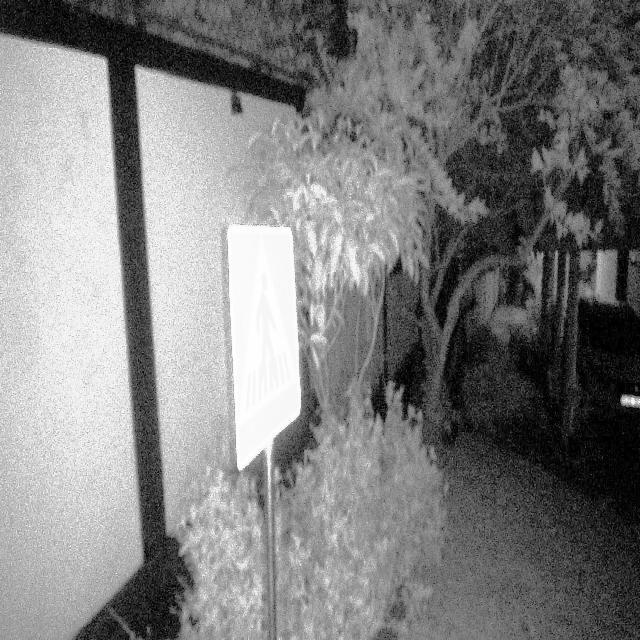Sign: (225, 223, 303, 477)
